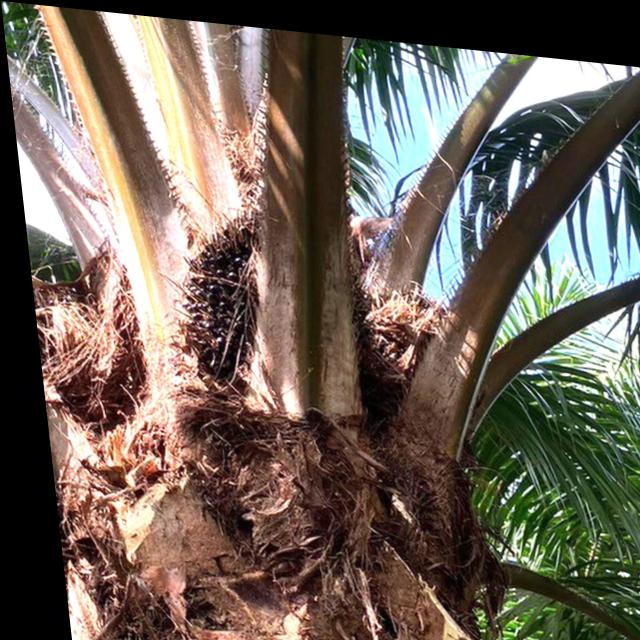unripe: (142, 185, 300, 402)
